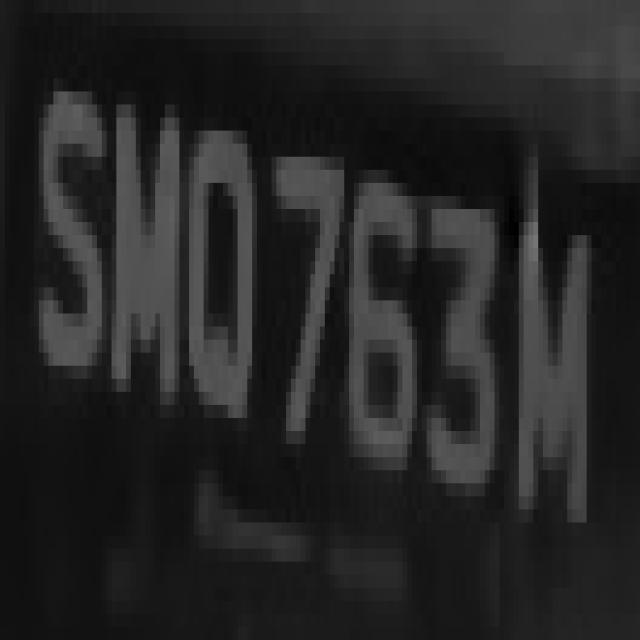3: (412, 170, 500, 535)
6: (330, 104, 422, 483)
7: (252, 105, 354, 470)
M: (494, 118, 592, 522), (102, 52, 184, 431)
Q: (179, 105, 267, 470)
S: (29, 13, 107, 431)
